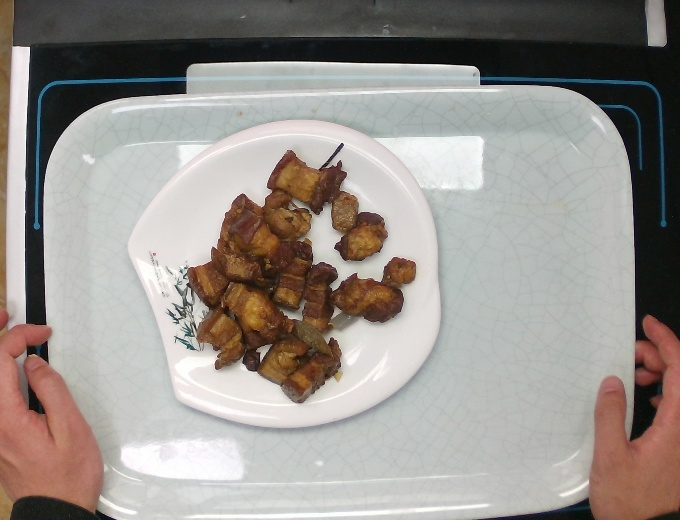JYsf-Mian_Pan: (121, 114, 451, 434)
